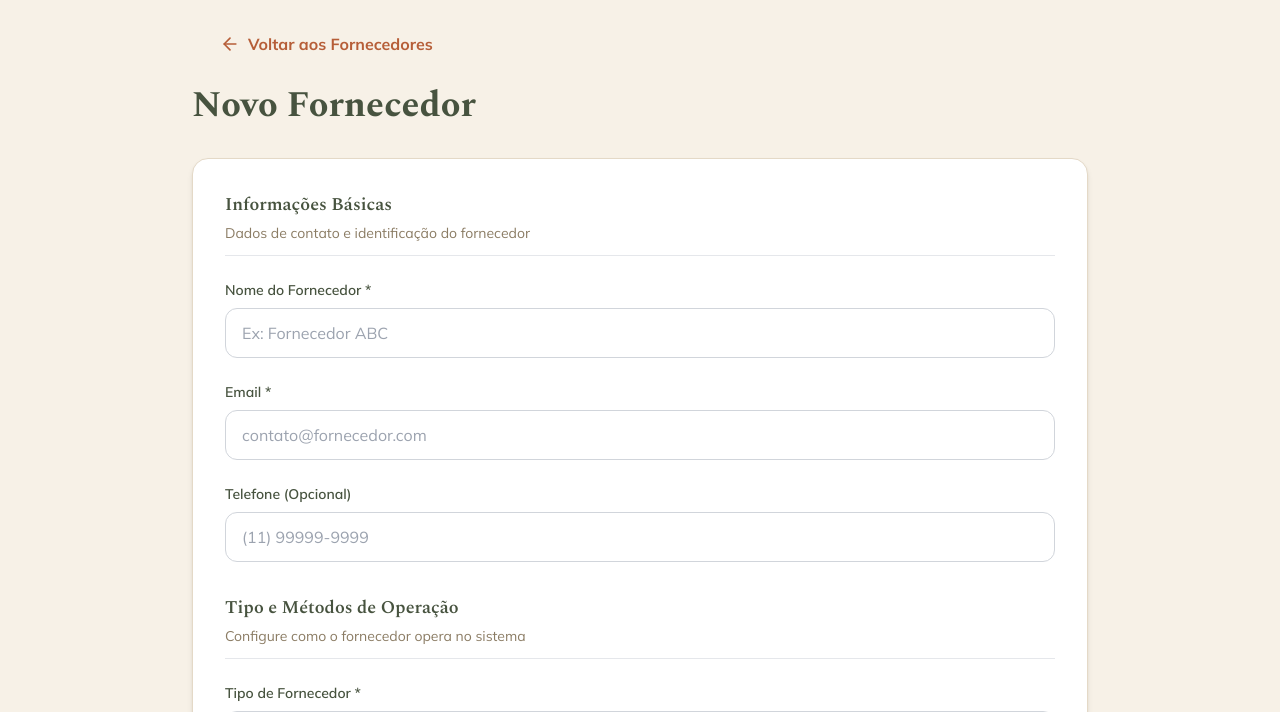
Test case: SupplierEditor › Tratamento de Erros › deve mostrar erro quando createSupplier falha
This screenshot has width=1280, height=712.
Type "Fornecedor ABC" into the field labelled "Nome do Fornecedor *".
click(640, 333); type("Fornecedor ABC")  # box [225,308,1055,358]
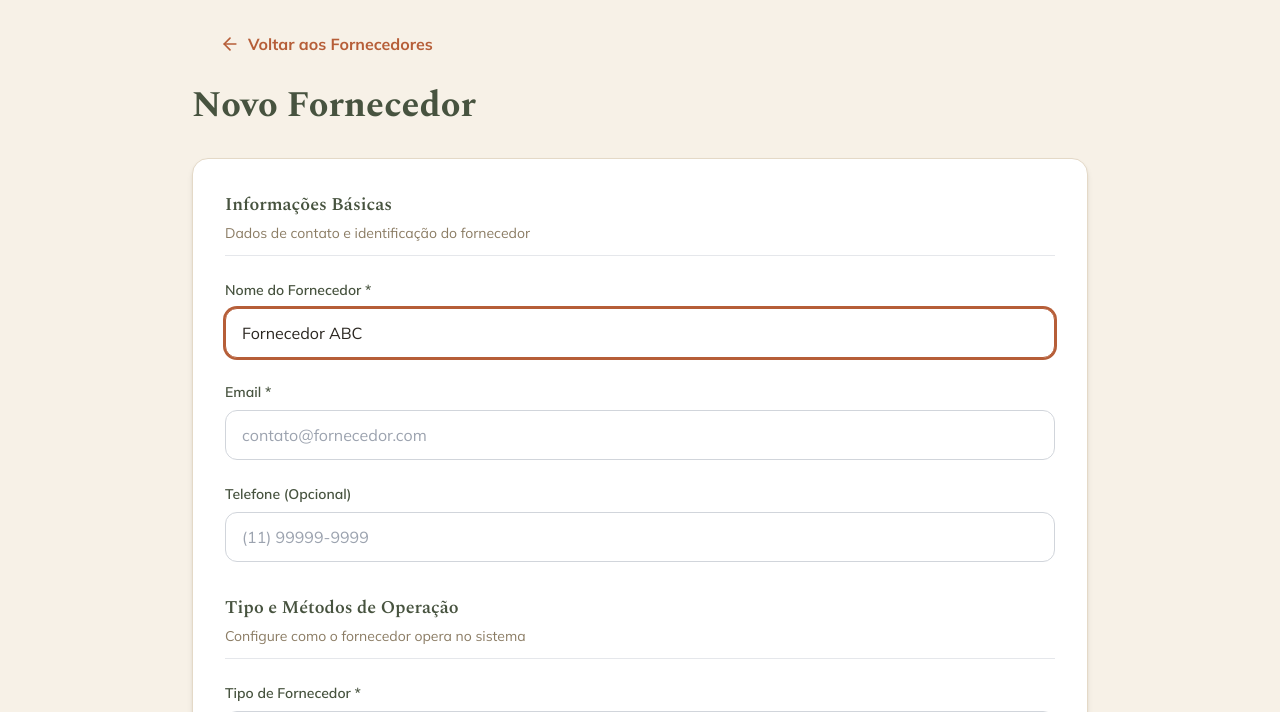
Type "contato@abc.com" into the field labelled "Email *".
click(640, 435); type("contato@abc.com")  # box [225,410,1055,460]
(page scrolled)
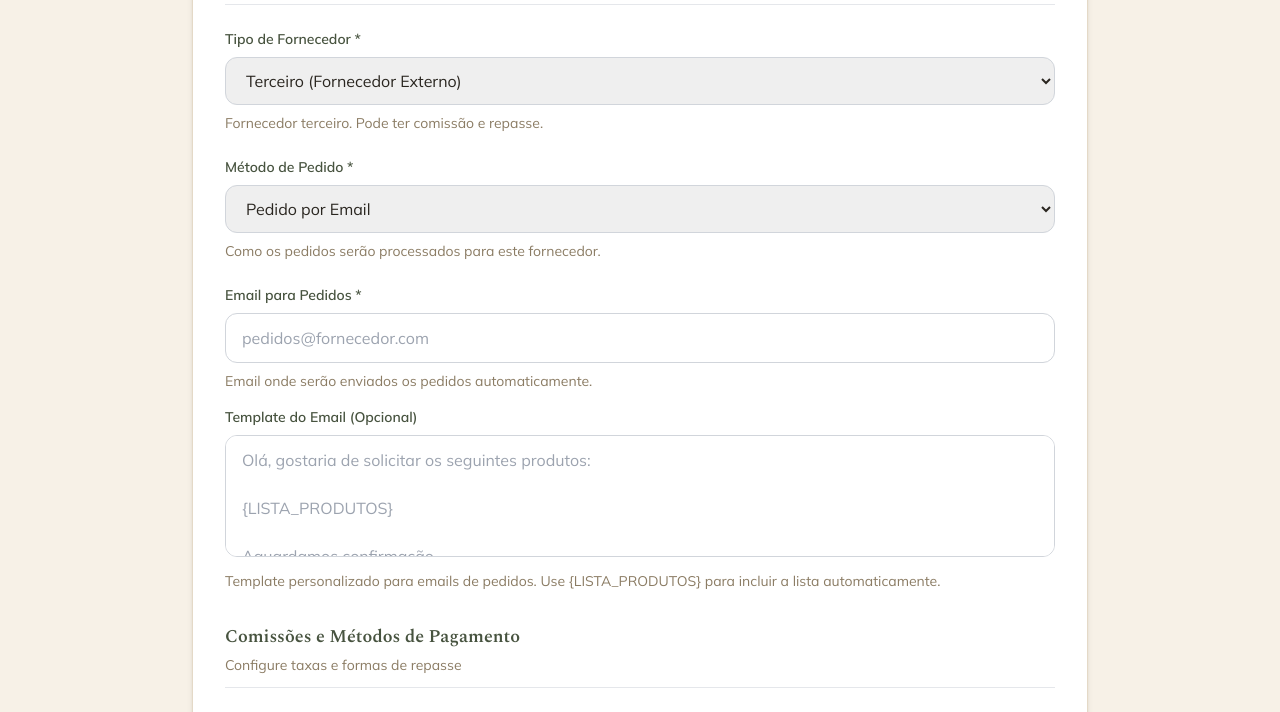
Type "pedidos@abc.com" into the field labelled "Email para Pedidos *".
click(640, 338); type("pedidos@abc.com")  # box [225,313,1055,363]
(page scrolled)
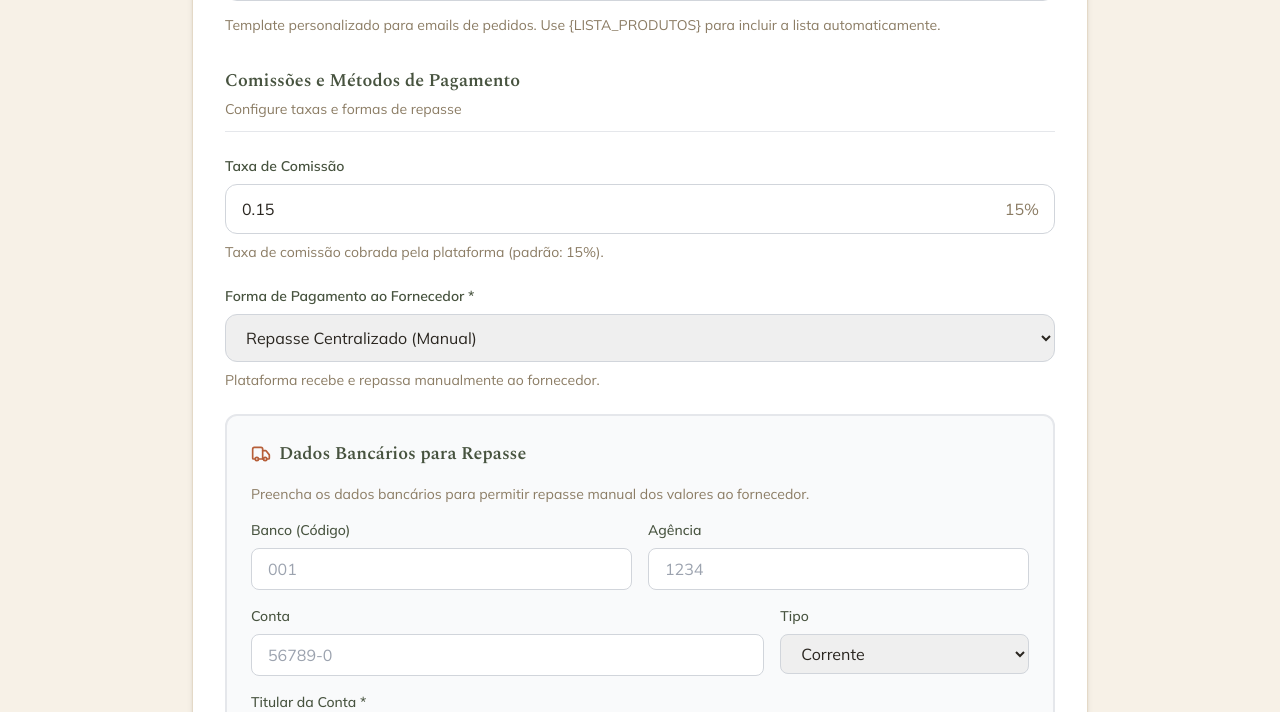
Note: Selecionar pagamento 'none' para evitar a exigência de dados bancários
Select "Sem Repasse" in the dropdown labelled "Forma de Pagamento ao Fornecedor *" at (640, 338), box [225,314,1055,362]
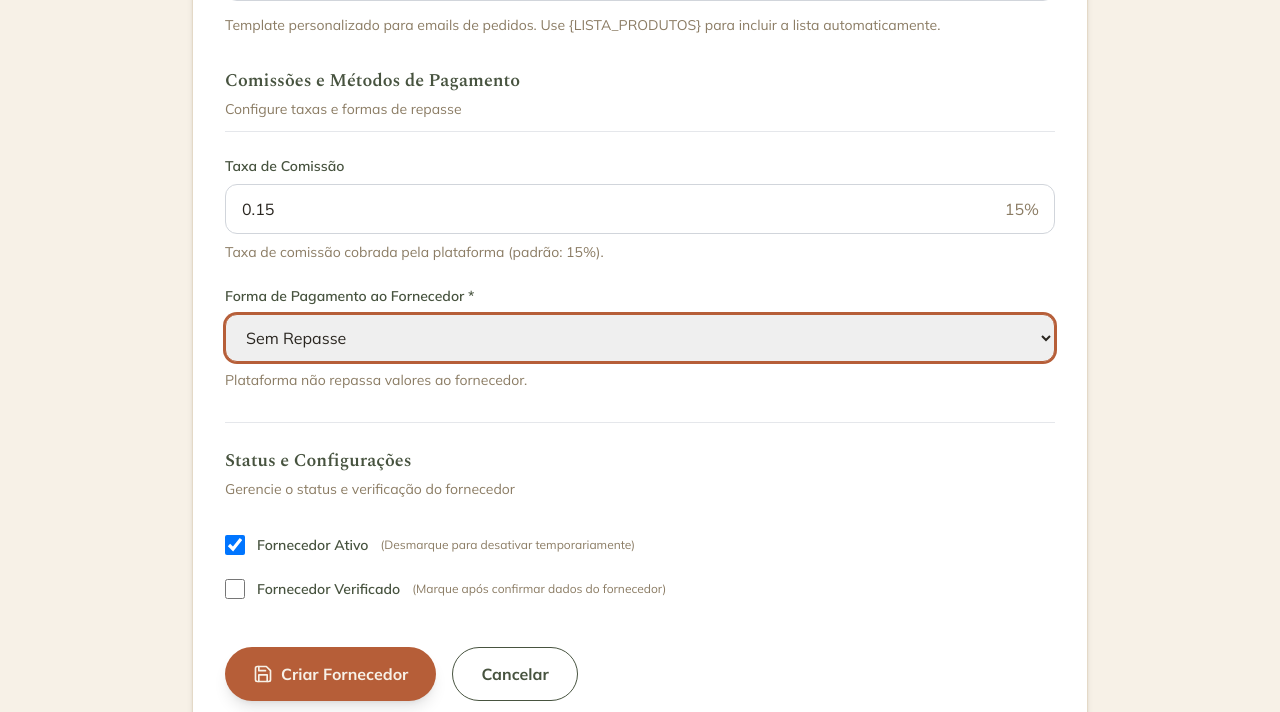
Click the button "Criar Fornecedor".
click(331, 674)  # box [225,647,436,701]
(page scrolled)
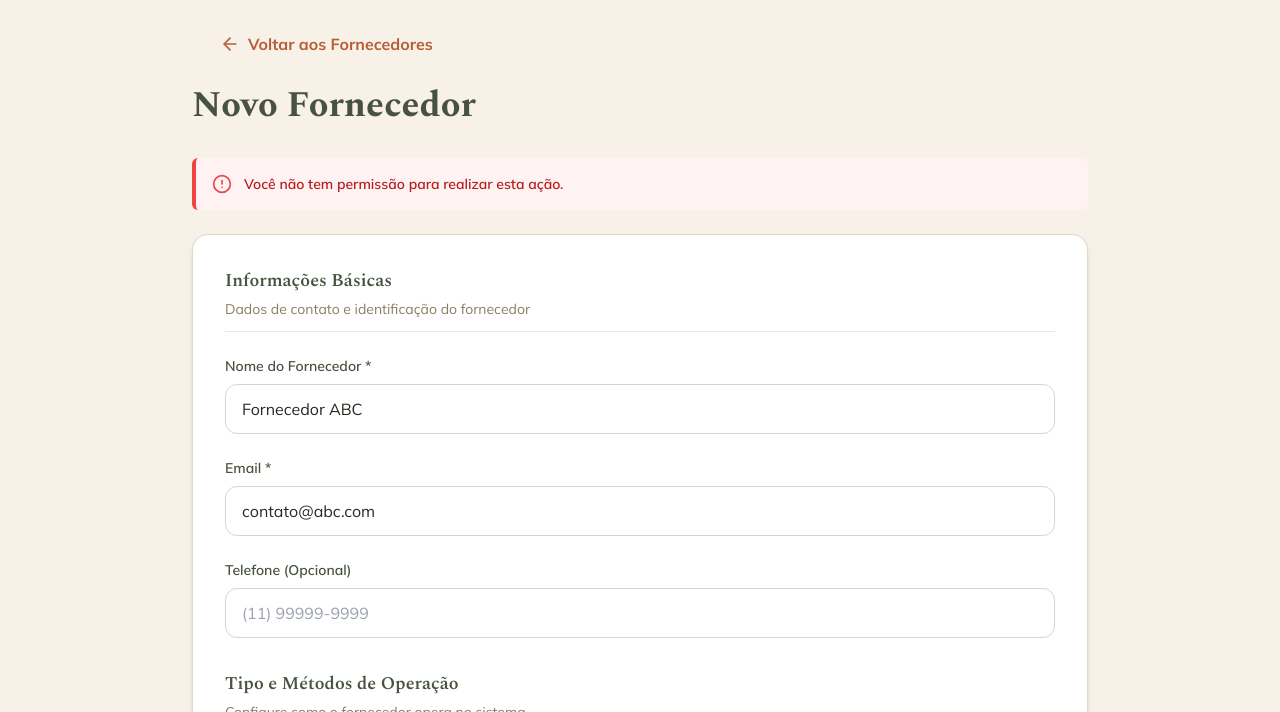
Expected: the text "Você não tem permissão para realizar esta ação." is shown, [244,175,563,193]
